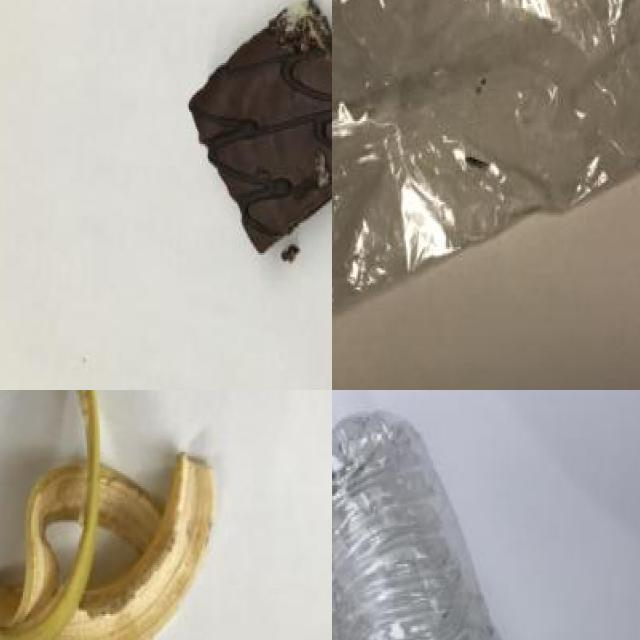compost: (0, 390, 224, 640), (167, 0, 332, 283)
plastic: (332, 421, 621, 640)
trash: (332, 0, 640, 342)
